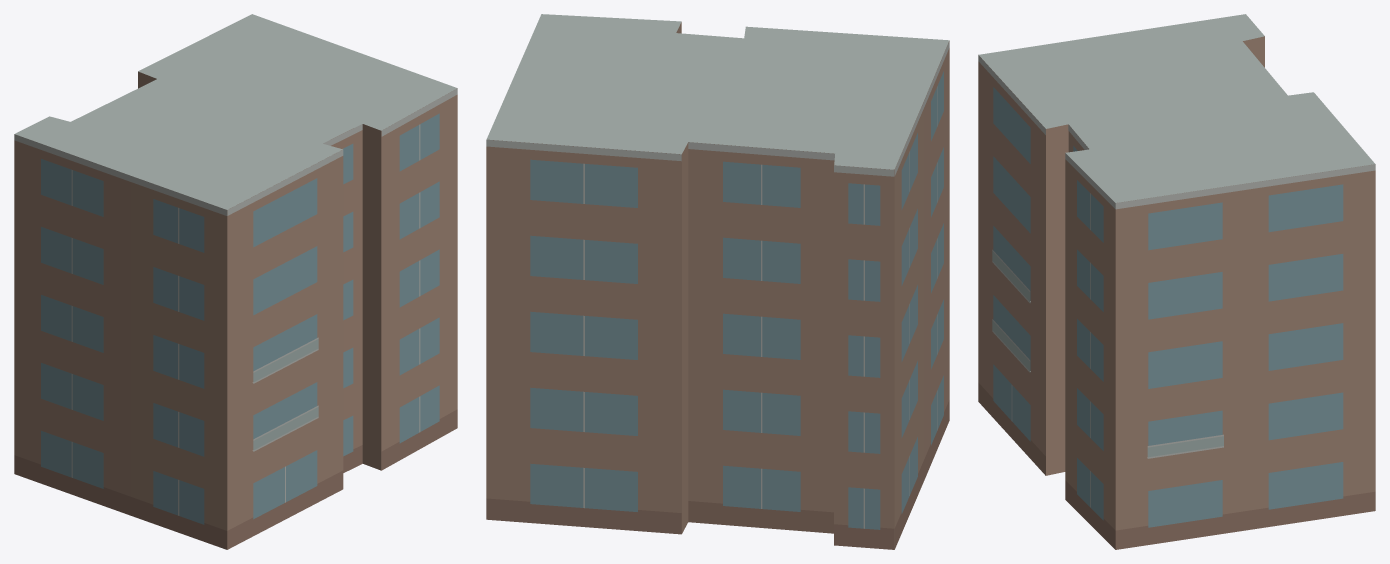
Rendered from survey-upis-32936866.glb.
3 views of the same model, side by side, from view 1: azimuth 30°, elevation 25°; view 2: azimuth 150°, elevation 25°; view 3: azimuth 270°, elevation 25° (orthographic). The views are drawn at different scales.
Parts seen in each view (by area): view 1: survey-upis-32936866.tmp; view 2: survey-upis-32936866.tmp; view 3: survey-upis-32936866.tmp.
Part boxes in pixels (x1=…): survey-upis-32936866.tmp: x1=14, y1=14, x2=457, y2=549; survey-upis-32936866.tmp: x1=486, y1=14, x2=949, y2=549; survey-upis-32936866.tmp: x1=978, y1=14, x2=1375, y2=549.
Bounding box in the file's own units: 15.55 × 13.3 × 13.81.
